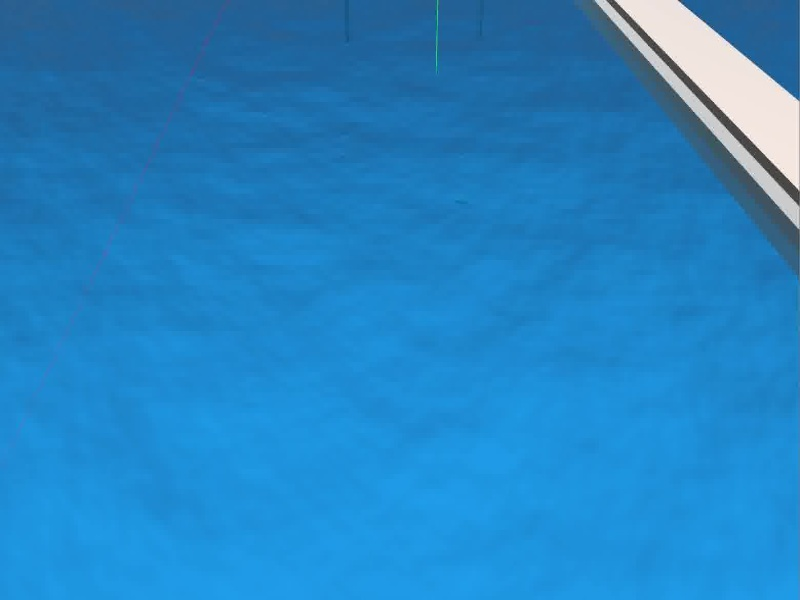gate: (342, 1, 487, 45)
